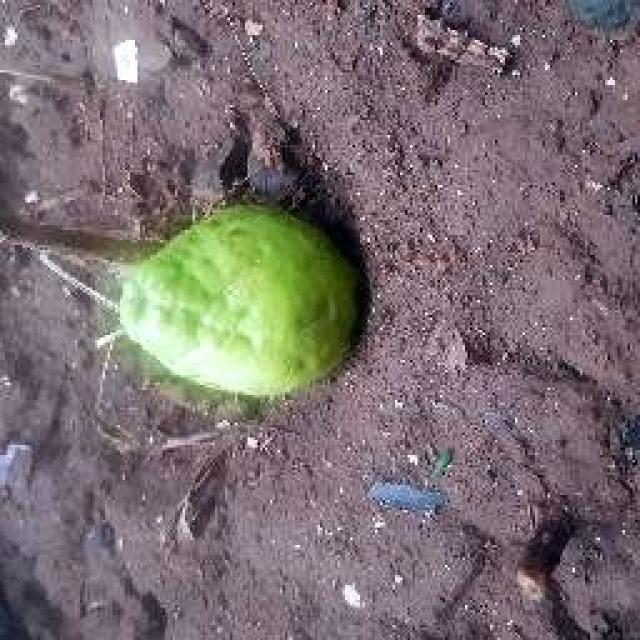Good_Guava: (118, 205, 365, 400)
